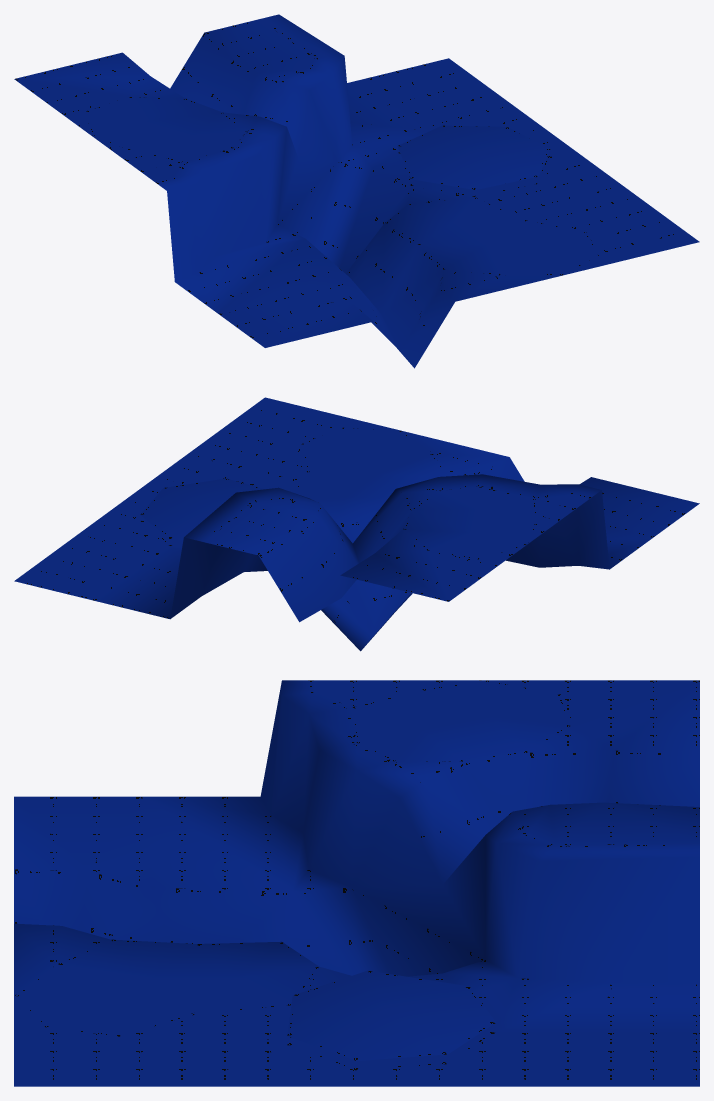
Rendered from GRD_S_C2_R1_1.fbx.
3 renders of one model, top to bottom at view 1: azimuth 30°, elevation 25°; view 2: azimuth 150°, elevation 25°; view 3: azimuth 270°, elevation 25°, orthographic. The views are drawn at different scales.
Parts seen in each view (by area): view 1: material_00042000, material_C0032000, material_00022000, material_C0062000, material_C0012000, material_C0052000; view 2: material_00042000, material_C0062000, material_C0032000, material_00022000, material_C0012000; view 3: material_00042000, material_00022000, material_C0032000, material_C0062000, material_C0012000, material_C0052000.
Boxes of the visible parts, x1,y1,x2,y2 form: material_00042000: (14,19,699,347); material_C0032000: (170,33,454,368); material_00022000: (155,14,352,281); material_C0062000: (85,97,599,275); material_C0012000: (397,125,550,189); material_C0052000: (397,152,550,197); material_00042000: (14,397,699,618); material_C0062000: (292,427,537,559); material_C0032000: (258,457,524,651); material_00022000: (170,474,609,618); material_C0012000: (140,478,264,540); material_00042000: (14,680,699,1086); material_00022000: (260,680,699,982); material_C0032000: (14,750,699,976); material_C0062000: (14,680,571,1036); material_C0012000: (287,970,495,1060); material_C0052000: (287,1026,496,1070).
Size of the model in its own units: 12800 by 4800 by 12800.
